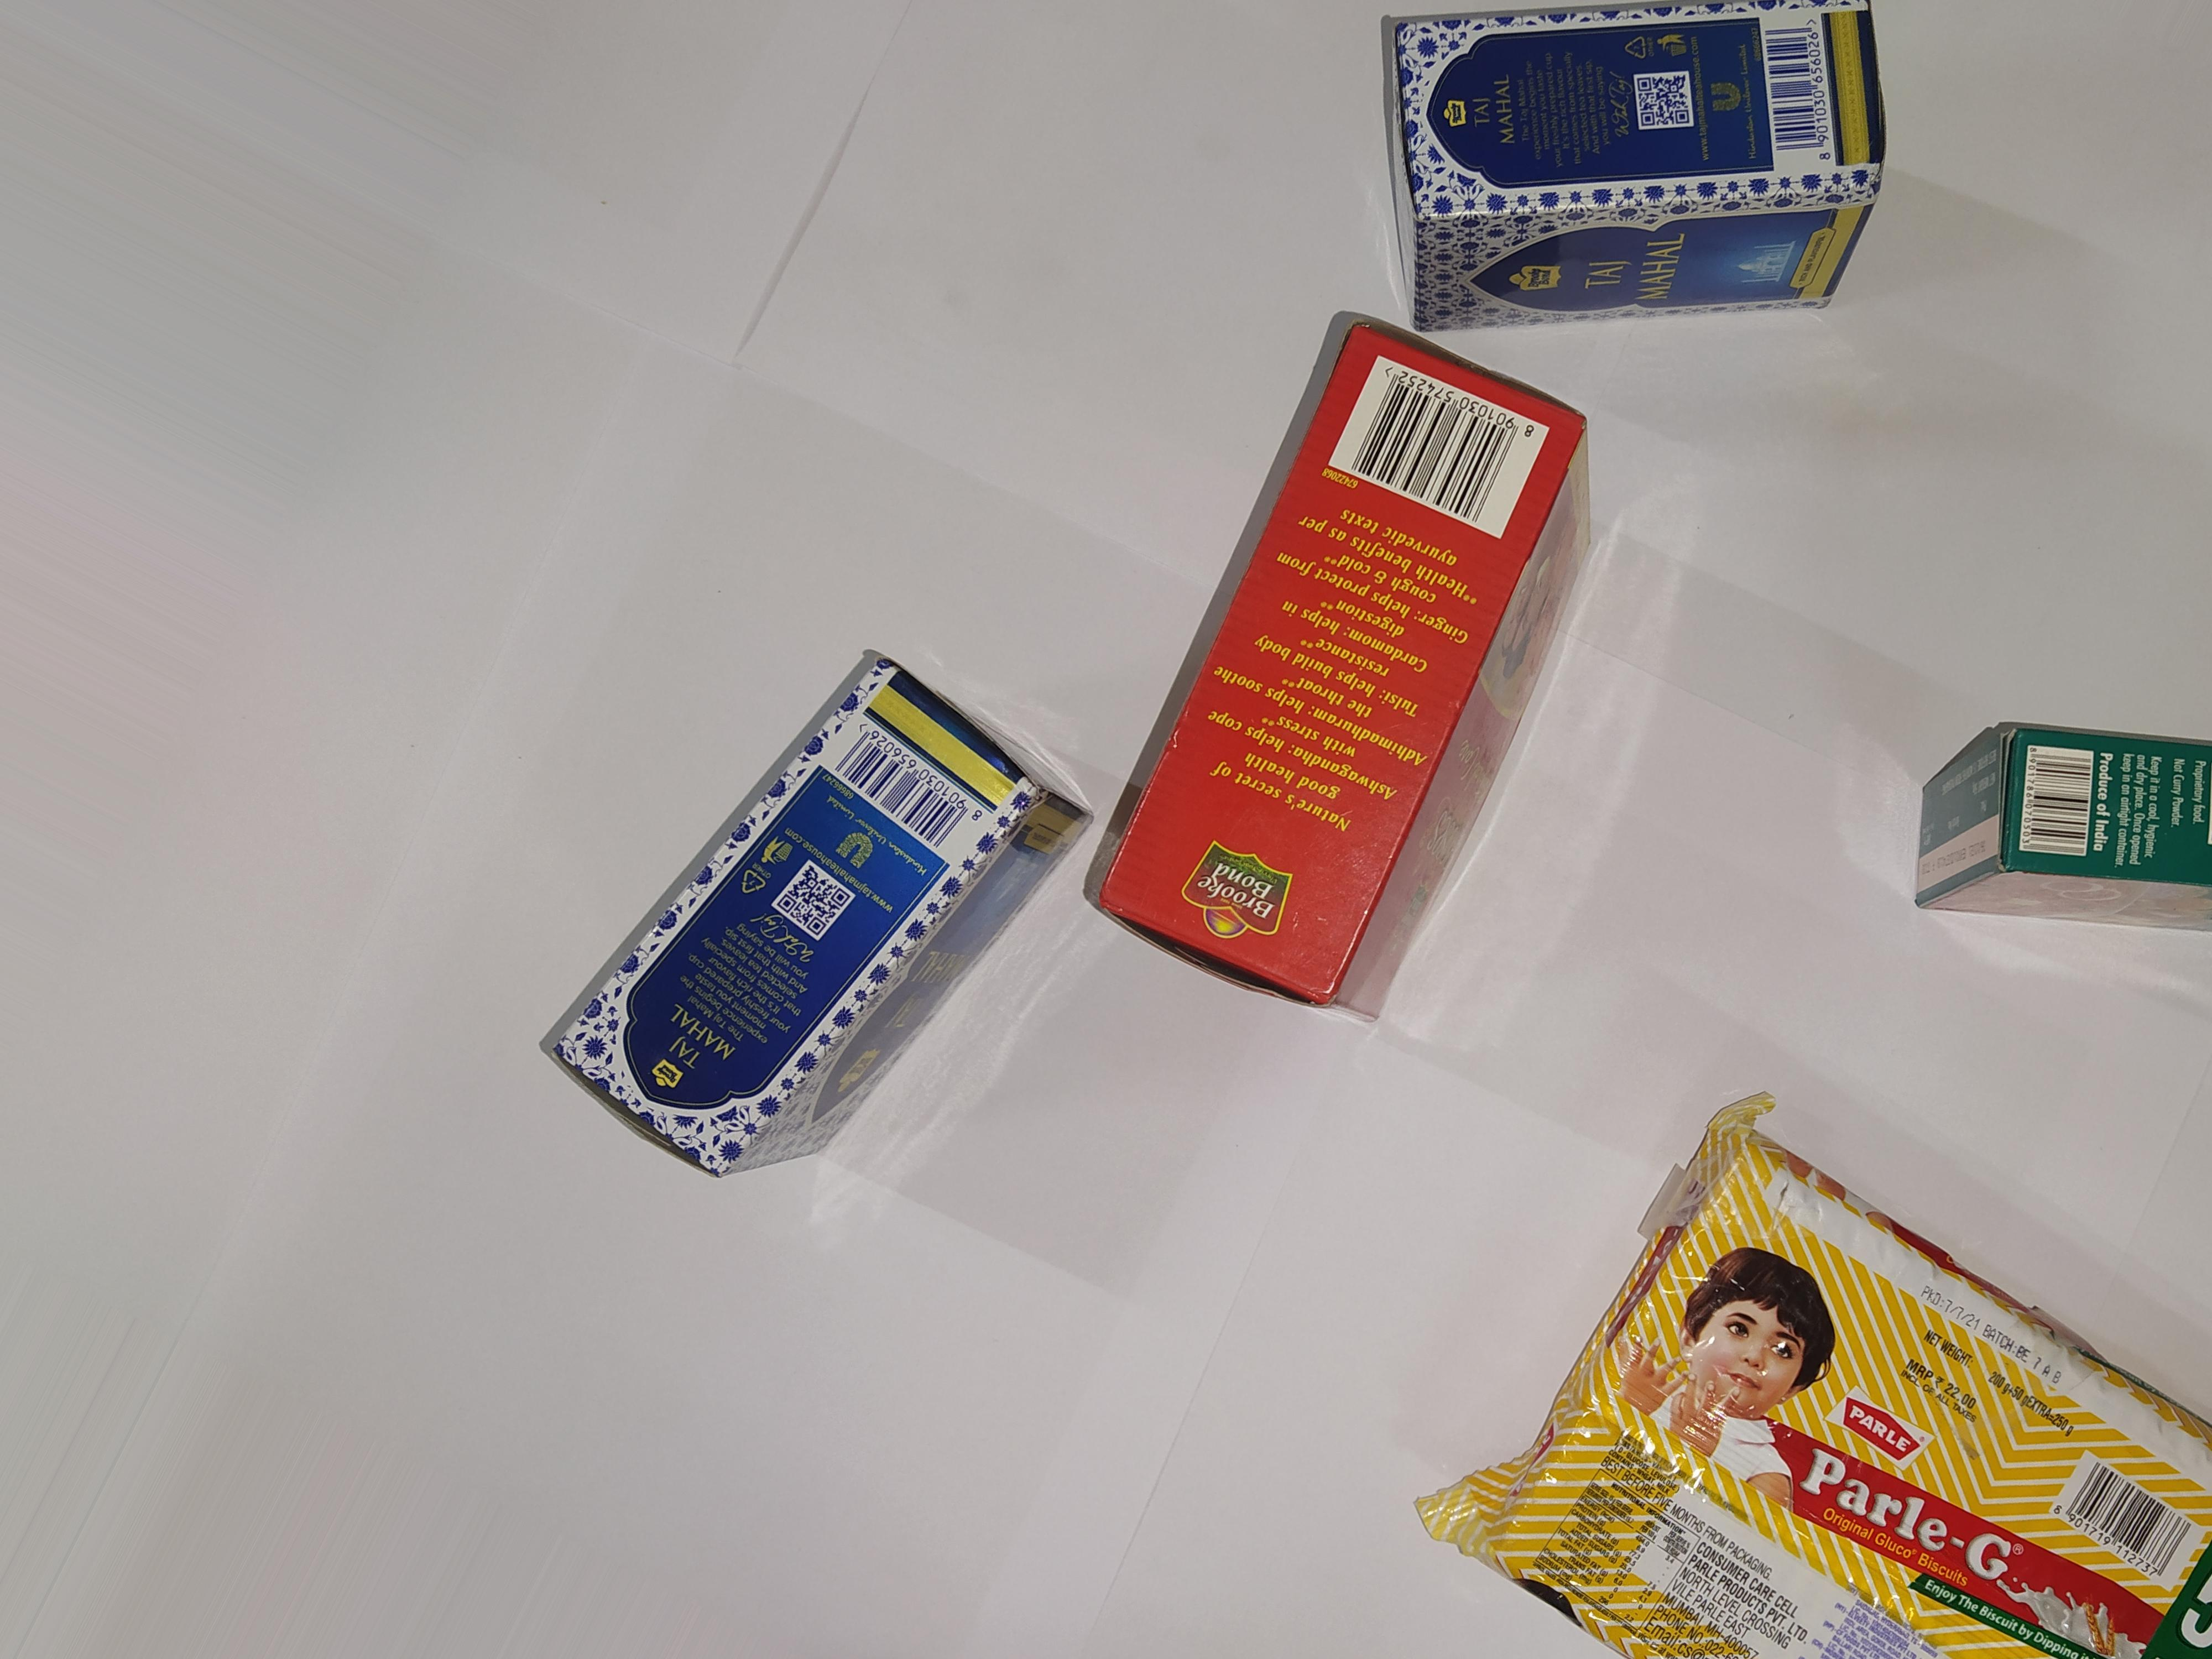Bar_code: (1331, 343, 1566, 551), (820, 709, 1001, 870), (2047, 1448, 2195, 1608), (1757, 10, 1843, 188), (2008, 735, 2101, 871)
Item: (1446, 1056, 2212, 1659), (455, 594, 1111, 1263), (1106, 244, 1554, 1077), (1360, 0, 1907, 342)
QR_code: (770, 861, 866, 950), (1625, 61, 1710, 129)
